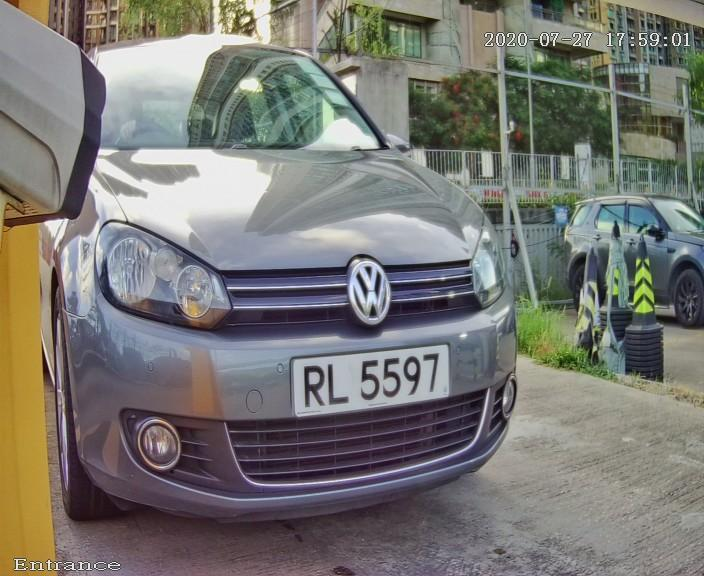privatecar: (29, 13, 598, 543)
